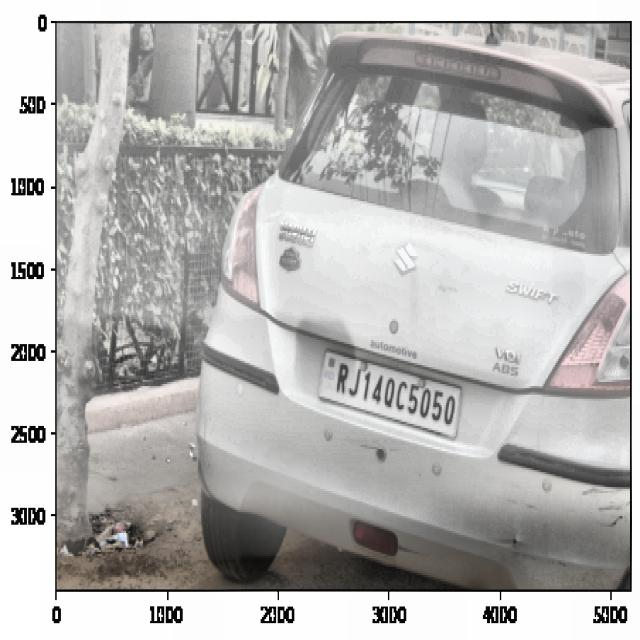license_plate: (332, 358, 459, 428)
